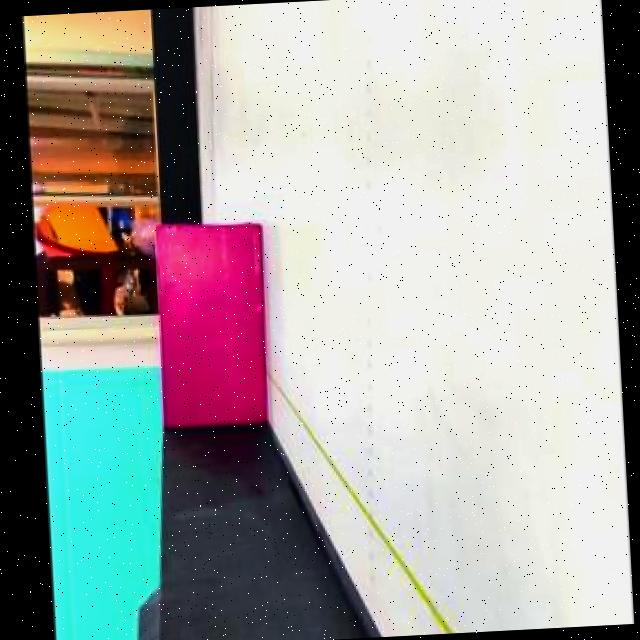xparking: (156, 223, 270, 428)
